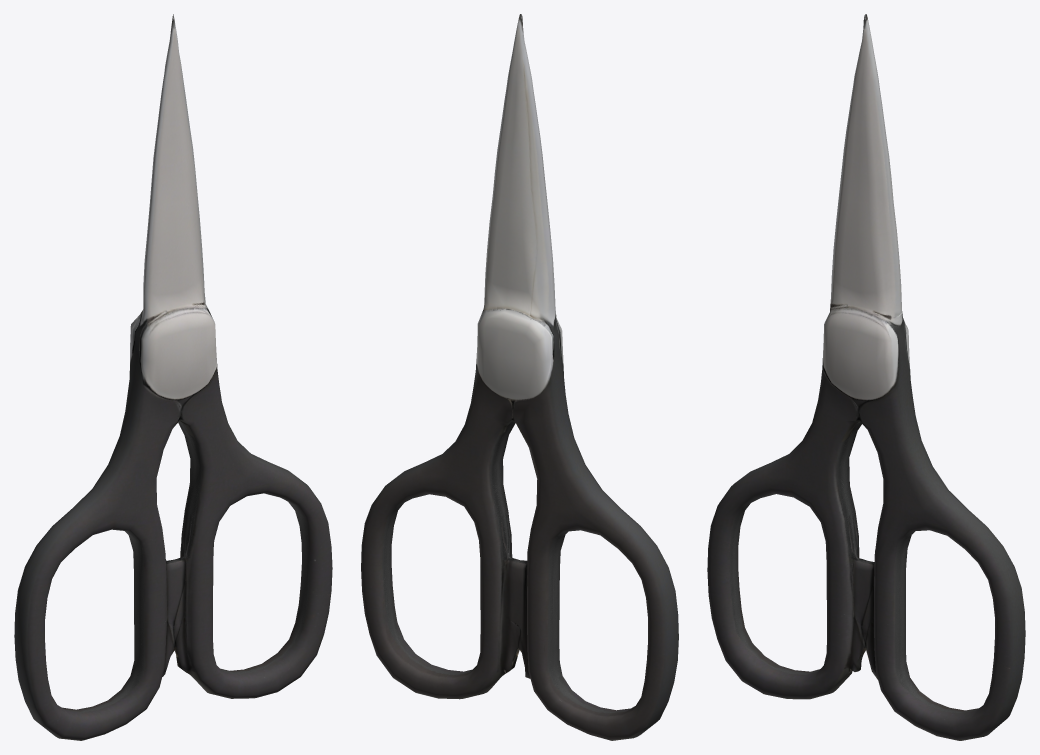
File: Scissiors.fbx
The picture shows the model from 3 angles, left to right: view 1: azimuth 30°, elevation 25°; view 2: azimuth 150°, elevation 25°; view 3: azimuth 330°, elevation 25°; orthographic projection.
Parts seen in each view (by area): view 1: Mesh0; view 2: Mesh0; view 3: Mesh0.
Part boxes in pixels (x1,y1,x2,y2): Mesh0: (14,14,332,740); Mesh0: (361,14,678,740); Mesh0: (707,14,1025,740).
Size of the model in its own units: 0.9201 by 0.1392 by 1.99.
1 material, 1 textured.
